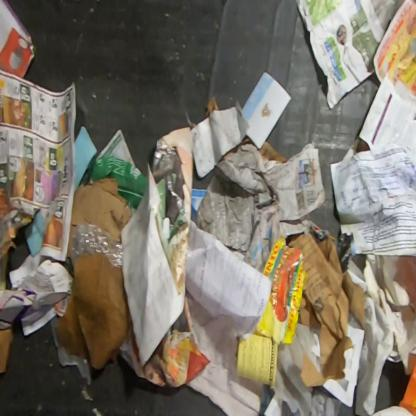cardboard: (286, 232, 366, 388), (57, 253, 129, 372), (251, 236, 307, 346), (0, 257, 74, 338), (66, 177, 132, 259), (242, 71, 292, 150), (81, 156, 148, 211), (396, 355, 415, 415), (0, 323, 15, 375), (258, 141, 288, 163), (204, 96, 220, 121), (241, 136, 252, 145)
soft_plastic: (51, 315, 92, 386), (70, 221, 125, 269)
